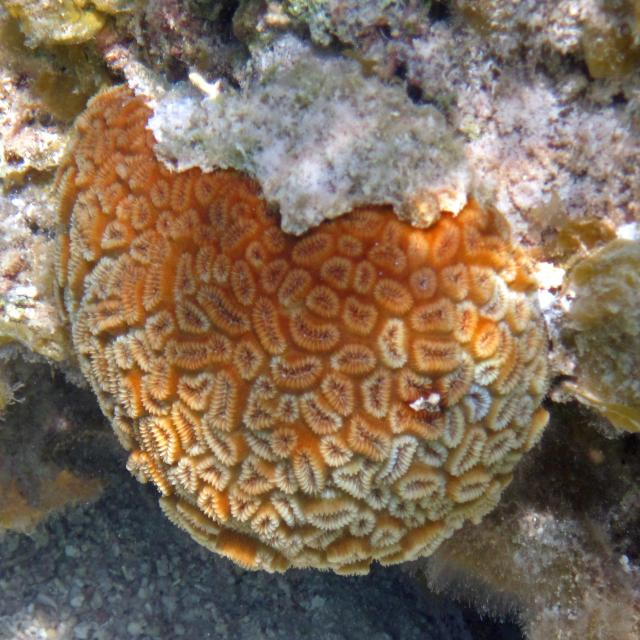Coral: (49, 81, 554, 578), (558, 233, 640, 437)
